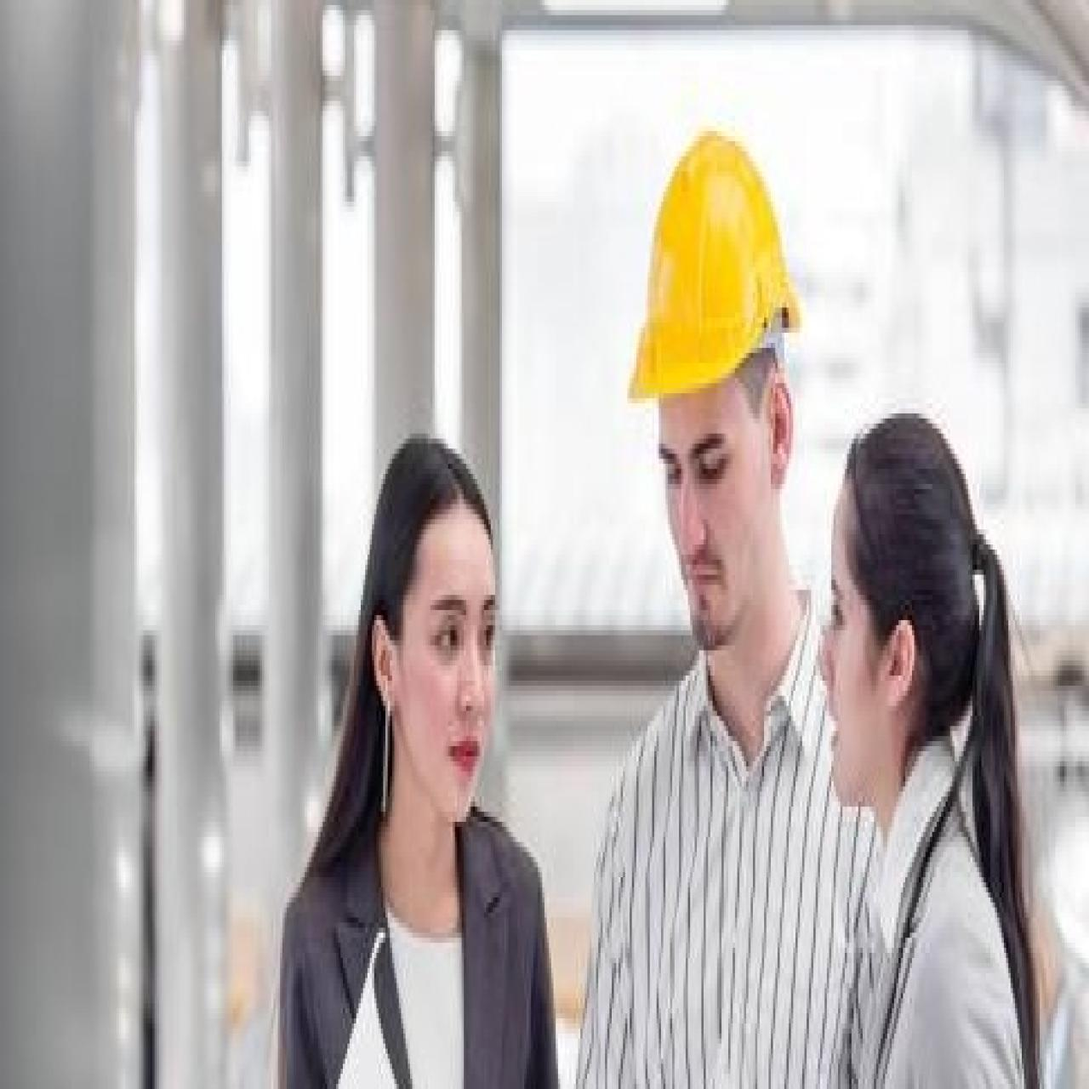NO_Safety_Vest: (610, 630, 838, 1089), (302, 814, 537, 1089), (851, 814, 1037, 1089)
Person: (563, 101, 868, 1089), (280, 404, 562, 1089), (804, 360, 1050, 1089)
